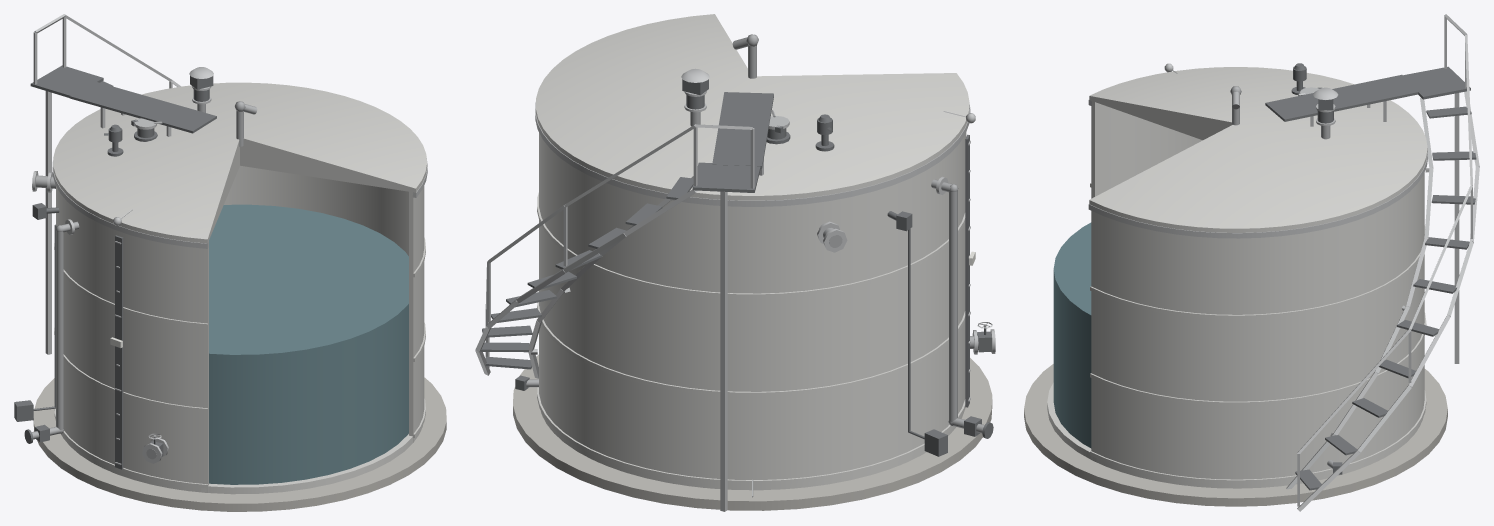
Rendered from tank_lite.glb.
3 renders of one model, left to right at view 1: azimuth 30°, elevation 25°; view 2: azimuth 150°, elevation 25°; view 3: azimuth 270°, elevation 25°, orthographic. The views are drawn at different scales.
Visible parts, largest first — view 1: KIT_tank, KIT_LEVEL, KIT_concrete, KIT_detail_steel_dark, KIT_detail_steel, KIT_detail_pipe, KIT_steel, KIT_pipe; view 2: KIT_tank, KIT_detail_steel_dark, KIT_concrete, KIT_detail_steel, KIT_steel, KIT_detail_pipe, KIT_pipe; view 3: KIT_tank, KIT_concrete, KIT_detail_steel, KIT_detail_steel_dark, KIT_LEVEL, KIT_steel.
Part boxes in pixels (x1,y1,x2,y2): KIT_tank: (53,82,427,494); KIT_LEVEL: (209,204,408,484); KIT_concrete: (33,377,446,511); KIT_detail_steel_dark: (14,65,216,469); KIT_detail_steel: (32,14,213,464); KIT_detail_pipe: (32,104,205,459); KIT_steel: (52,158,427,248); KIT_pipe: (35,101,257,188); KIT_tank: (535,14,969,490); KIT_detail_steel_dark: (480,79,993,456); KIT_concrete: (513,354,992,510); KIT_detail_steel: (475,68,995,511); KIT_steel: (535,102,970,206); KIT_detail_pipe: (526,112,984,433); KIT_pipe: (732,34,842,247); KIT_tank: (1047,67,1427,488); KIT_concrete: (1024,364,1447,506); KIT_detail_steel: (1164,14,1479,511); KIT_detail_steel_dark: (1265,66,1476,490); KIT_LEVEL: (1053,222,1091,448); KIT_steel: (1088,100,1427,238).
Size of the model in its own units: 8.31 by 6.69 by 7.85.
